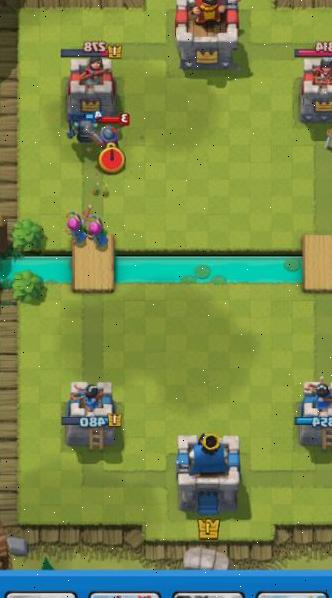enemy_musketeer: (82, 113, 134, 151)
player_archers: (62, 208, 88, 244), (86, 211, 111, 247)
player_mini_pekka: (64, 109, 102, 143)
